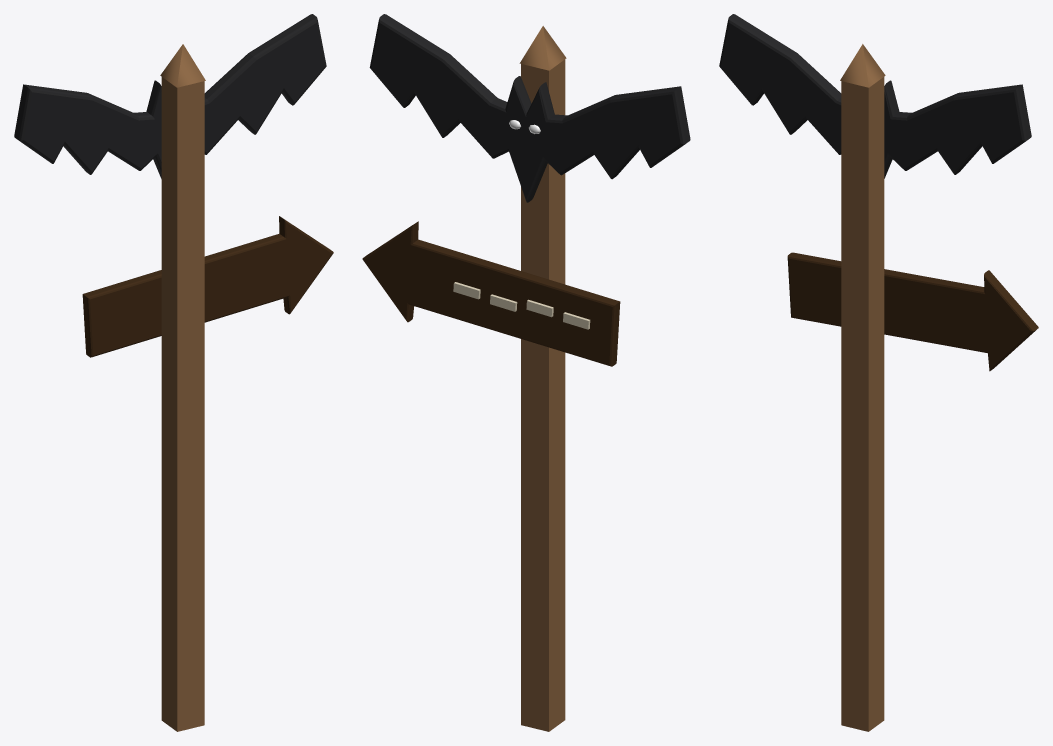
File: BAT_SIGN.glb
3 views of the same model, side by side, from view 1: azimuth 30°, elevation 25°; view 2: azimuth 150°, elevation 25°; view 3: azimuth 330°, elevation 25° (orthographic). The views are drawn at different scales.
Parts seen in each view (by area): view 1: wood_0, tread_1, timber_2; view 2: wood_0, tread_1, timber_2, bone_3; view 3: wood_0, tread_1, timber_2.
Part boxes in pixels (x1=…): wood_0: x1=160, y1=44, x2=205, y2=731; tread_1: x1=14, y1=14, x2=326, y2=178; timber_2: x1=82, y1=216, x2=333, y2=357; wood_0: x1=519, y1=26, x2=566, y2=731; tread_1: x1=369, y1=14, x2=690, y2=202; timber_2: x1=362, y1=221, x2=620, y2=366; bone_3: x1=453, y1=282, x2=590, y2=329; wood_0: x1=840, y1=44, x2=885, y2=731; tread_1: x1=719, y1=14, x2=1031, y2=178; timber_2: x1=787, y1=252, x2=1038, y2=371.
Size of the model in its own units: 1.15 by 2.37 by 0.1737.
